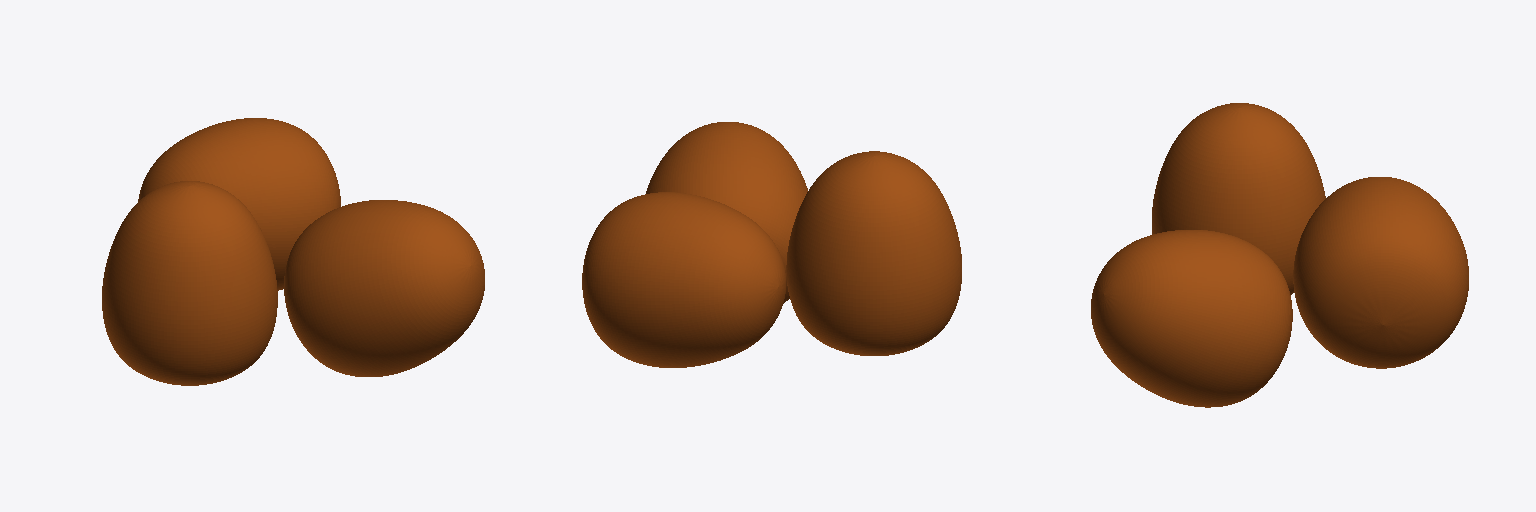
File: Egg.obj
3 views of the same model, side by side, from view 1: azimuth 30°, elevation 25°; view 2: azimuth 150°, elevation 25°; view 3: azimuth 270°, elevation 25° (orthographic).
Parts seen in each view (by area): view 1: Sphere.002; view 2: Sphere.002; view 3: Sphere.002.
Boxes of the visible parts, x1=… form: Sphere.002: x1=102, y1=118, x2=484, y2=385; Sphere.002: x1=582, y1=122, x2=961, y2=367; Sphere.002: x1=1091, y1=103, x2=1468, y2=407.
Size of the model in its own units: 0.9401 by 0.5861 by 0.9482.